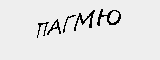А: (47, 18, 60, 38)
Г: (61, 14, 76, 34)
М: (73, 9, 96, 32)
П: (34, 19, 49, 37)
Ю: (97, 5, 122, 29)
